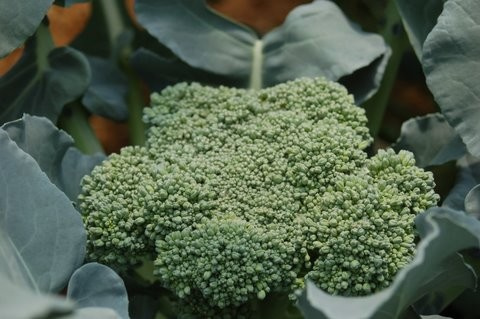broccoli: (79, 78, 434, 311)
